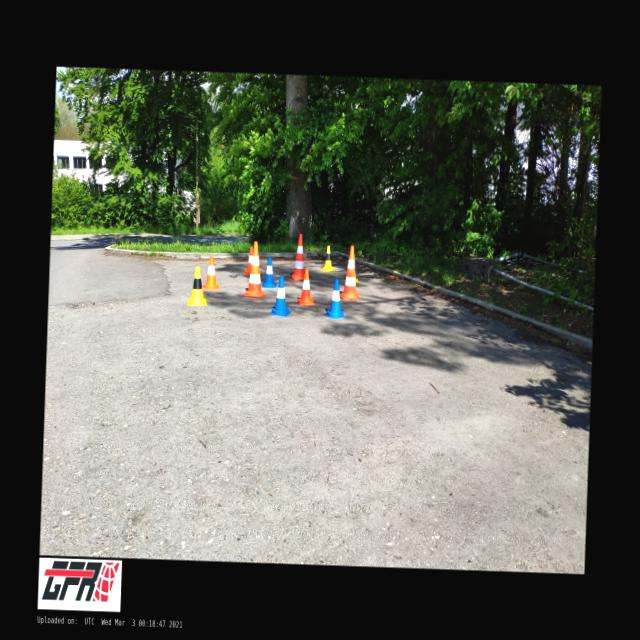blue_cone: (323, 278, 348, 318), (270, 275, 292, 316), (261, 255, 277, 287)
large_orange_cone: (242, 240, 267, 298), (339, 244, 360, 299), (288, 232, 306, 280)
orange_cone: (296, 268, 316, 305), (202, 255, 220, 289), (244, 247, 252, 274)
yellow_cone: (187, 266, 208, 306), (321, 244, 334, 270), (344, 270, 359, 282)
